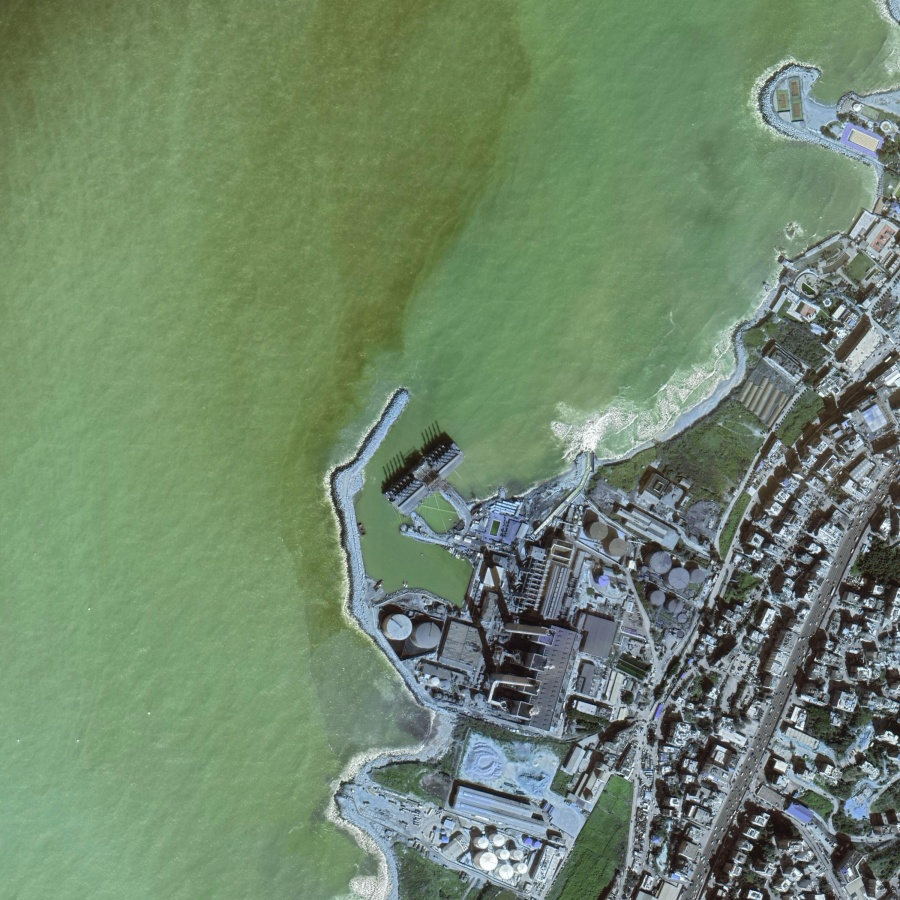PowerPlant: (370, 446, 715, 877)
